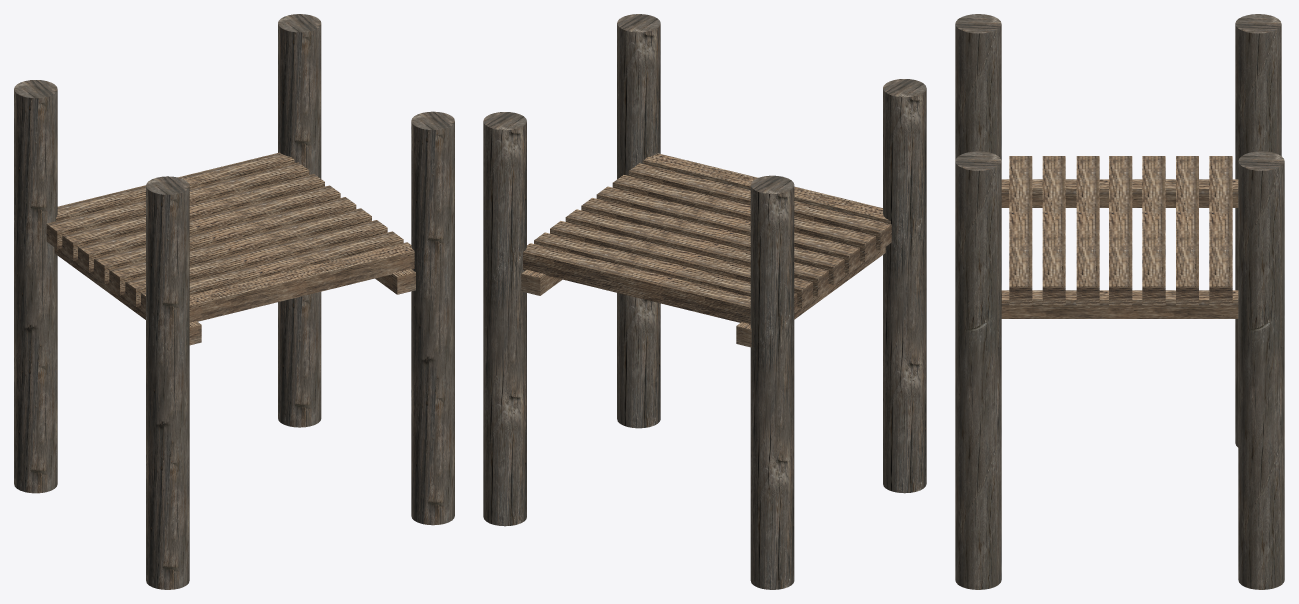
The model's file is plataforma .fbx.
3 views of the same model, side by side, from view 1: azimuth 30°, elevation 25°; view 2: azimuth 150°, elevation 25°; view 3: azimuth 270°, elevation 25° (orthographic). The views are drawn at different scales.
Visible parts, largest first — view 1: Cylinder.001, Cylinder, Cylinder.002, Cylinder.003, Cube.005, Cube.014, Cube.010, Cube.011, Cube.015, Cube.012, Cube.013, Cube.016 (+3 smaller); view 2: Cylinder.002, Cylinder.003, Cylinder.001, Cylinder, Cube.008, Cube.015, Cube.012, Cube.011, Cube.013, Cube.016, Cube.014, Cube.010 (+3 smaller); view 3: Cylinder, Cylinder.003, Cylinder.002, Cylinder.001, Cube.002, Cube.010, Cube.012, Cube.013, Cube.014, Cube.015, Cube.016, Cube.011 (+1 smaller).
Boxes of the visible parts, x1=… form: Cylinder.001: x1=146, y1=176, x2=189, y2=589; Cylinder: x1=411, y1=111, x2=454, y2=525; Cylinder.002: x1=14, y1=80, x2=57, y2=493; Cylinder.003: x1=278, y1=14, x2=321, y2=427; Cube.005: x1=189, y1=242, x2=414, y2=322; Cube.014: x1=109, y1=208, x2=371, y2=295; Cube.010: x1=46, y1=162, x2=309, y2=249; Cube.011: x1=62, y1=174, x2=324, y2=260; Cube.015: x1=125, y1=220, x2=387, y2=306; Cube.012: x1=78, y1=185, x2=340, y2=272; Cube.013: x1=94, y1=197, x2=356, y2=283; Cube.016: x1=141, y1=231, x2=403, y2=313; Cylinder.002: x1=750, y1=175, x2=794, y2=589; Cylinder.003: x1=483, y1=112, x2=526, y2=526; Cylinder.001: x1=883, y1=79, x2=926, y2=493; Cylinder: x1=617, y1=14, x2=660, y2=428; Cube.008: x1=523, y1=243, x2=750, y2=323; Cube.015: x1=612, y1=175, x2=875, y2=261; Cube.012: x1=565, y1=209, x2=828, y2=296; Cube.011: x1=550, y1=221, x2=812, y2=307; Cube.013: x1=581, y1=198, x2=844, y2=284; Cube.016: x1=628, y1=163, x2=891, y2=250; Cube.014: x1=596, y1=186, x2=859, y2=273; Cube.010: x1=534, y1=232, x2=797, y2=313; Cylinder: x1=955, y1=151, x2=1001, y2=589; Cylinder.003: x1=1238, y1=151, x2=1284, y2=589; Cylinder.002: x1=1235, y1=14, x2=1281, y2=447; Cylinder.001: x1=955, y1=14, x2=1001, y2=160; Cube.002: x1=1001, y1=290, x2=1238, y2=318; Cube.010: x1=1209, y1=156, x2=1232, y2=305; Cube.012: x1=1142, y1=156, x2=1165, y2=305; Cube.013: x1=1109, y1=156, x2=1132, y2=305; Cube.014: x1=1076, y1=156, x2=1099, y2=305; Cube.015: x1=1042, y1=156, x2=1065, y2=305; Cube.016: x1=1009, y1=156, x2=1032, y2=305; Cube.011: x1=1176, y1=156, x2=1198, y2=305.
Bounding box in the file's own units: 482 × 600 × 427.
Materials: 2 (2 with a texture image).
